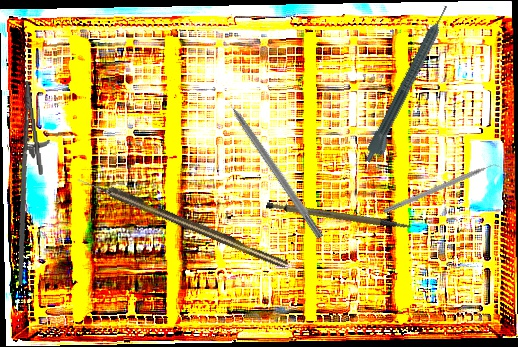Chopper: (382, 159, 504, 221)
Handpiece: (362, 3, 458, 168)
Hook Surgical: (75, 172, 290, 271), (218, 88, 326, 240)
Needle Holder: (0, 79, 63, 286)
Scalpel Handle: (264, 182, 412, 253)
